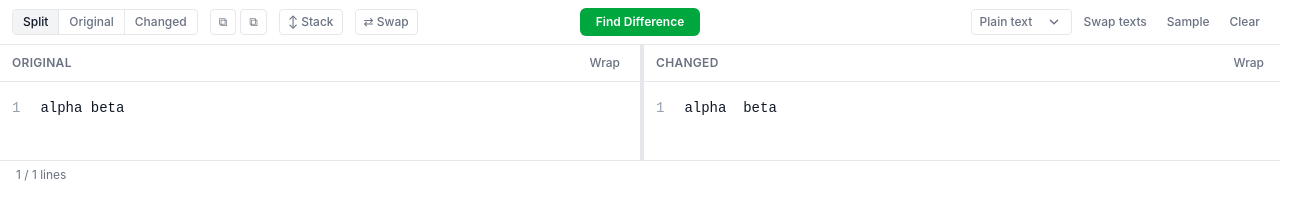
Test: DiffChecker › marks a single added space with a diff-char-added element
This screenshot has width=1292, height=198.
Click the button "Find Difference": (640, 22) [580, 8, 700, 36]
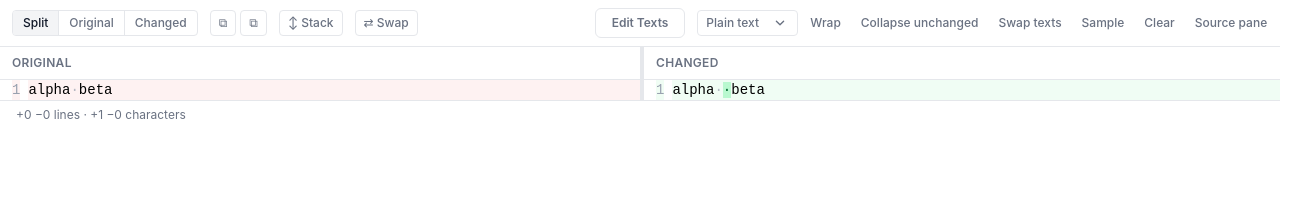
expect the element with class "diff-char-added" reads "·": met, box [723, 82, 731, 98]
